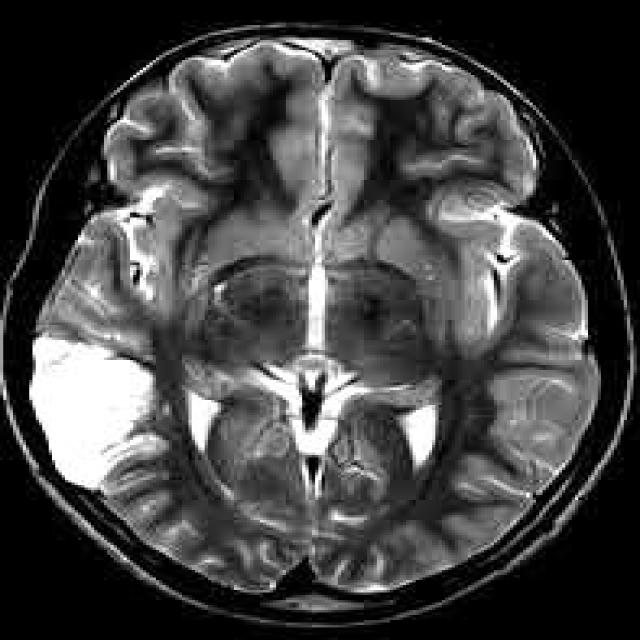Tumor-Cell: (23, 326, 163, 500)
